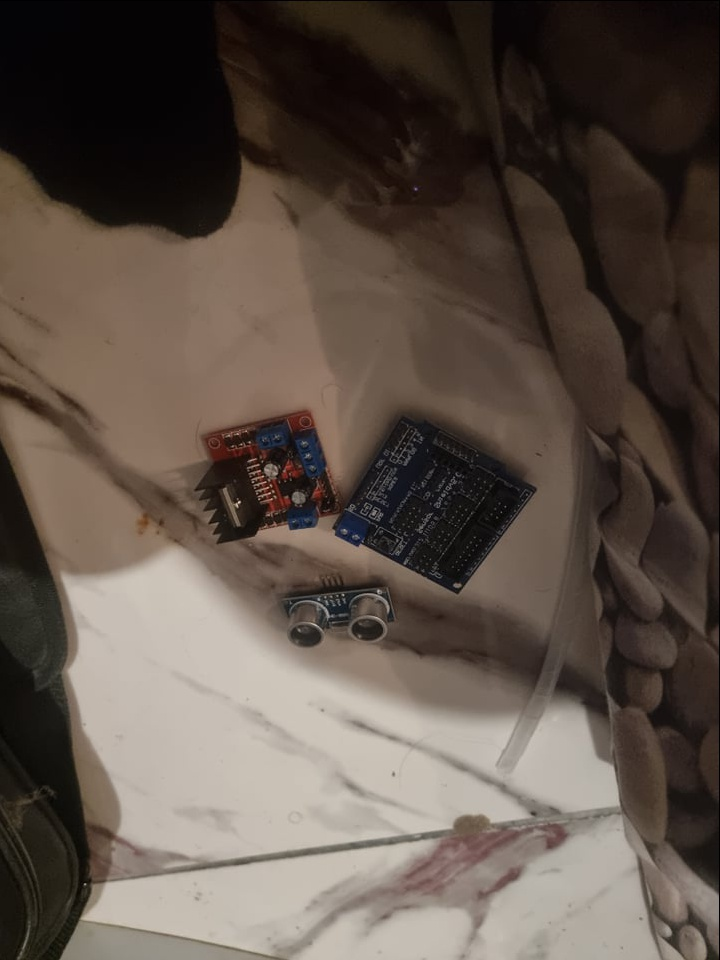5V EXPANSION: (333, 414, 539, 595)
MOTOR: (196, 409, 341, 545)
SENSOR: (285, 583, 398, 647)
